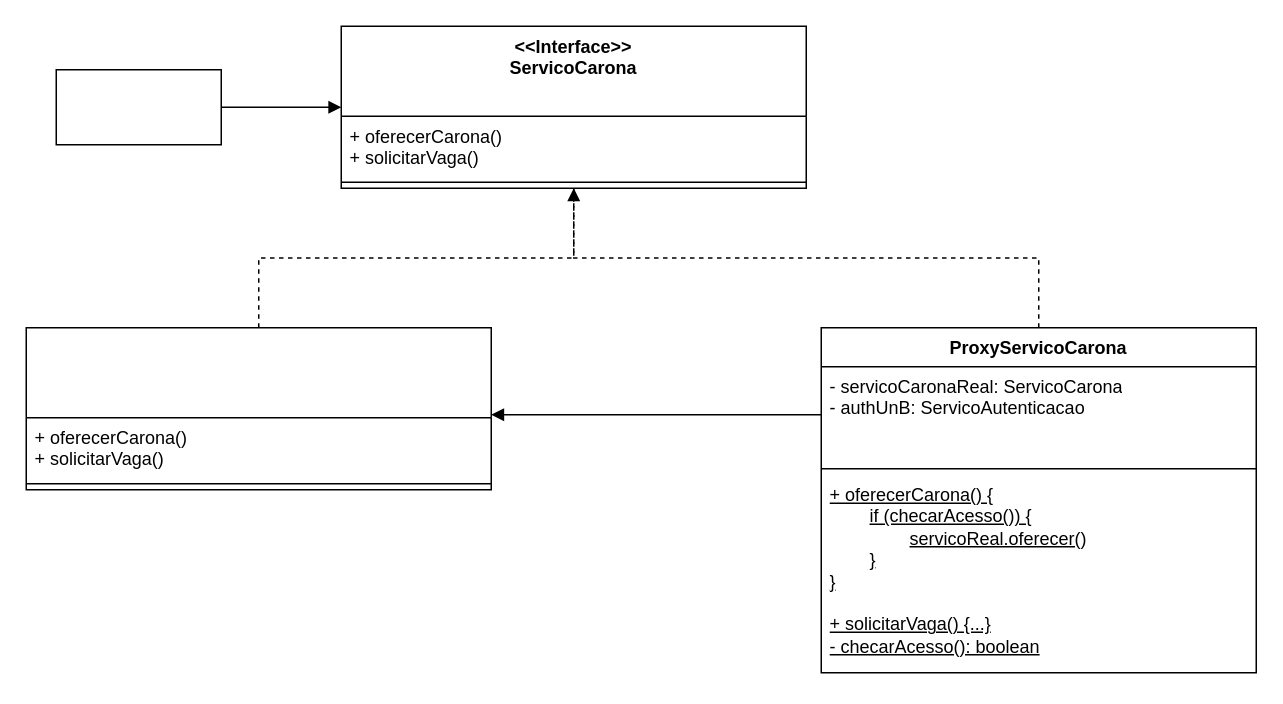
Image size: 1283x704. Some labels were removed from this diagram. The shapes that lost their labels are listed below. From the top down, each one's box as (x1, y1, x2, y2) in pixels, then its label:
(55, 68, 221, 145): Cliente
(25, 326, 491, 490): ServicoCaronaReal
